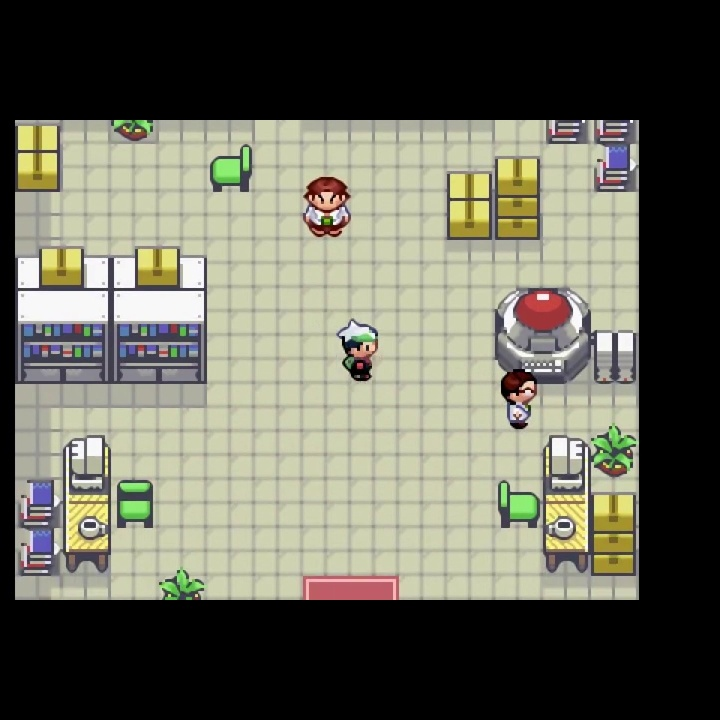agent: (334, 314, 382, 386)
exit: (300, 572, 401, 660)
npc: (299, 174, 356, 241), (497, 366, 537, 432)
